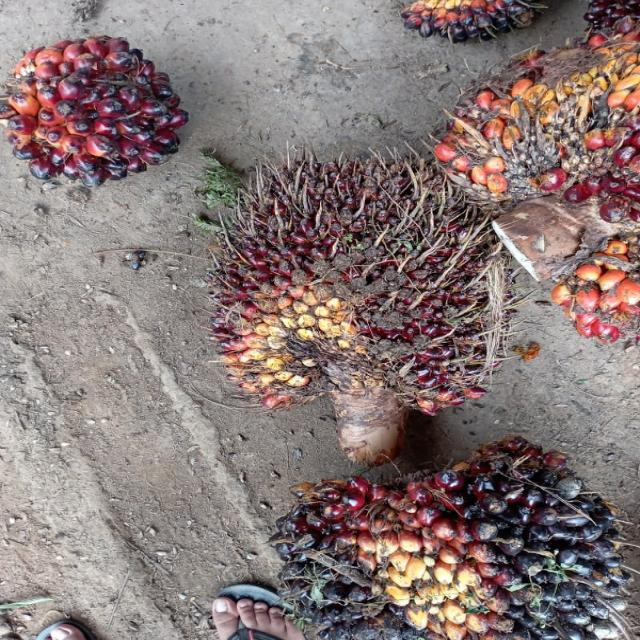fraksi 00: (265, 441, 623, 640)
fraksi 1: (194, 141, 514, 426), (0, 25, 182, 189)
fraksi 3: (419, 36, 640, 345)
